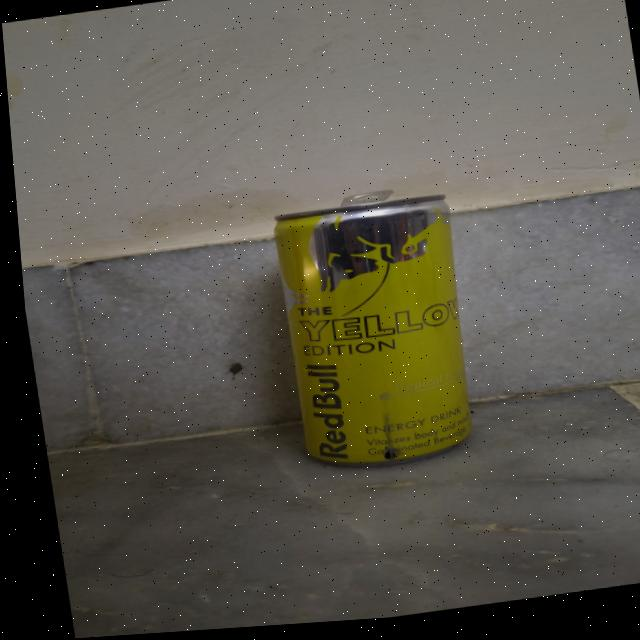Redbull Yellow Edition: (246, 184, 488, 479)
